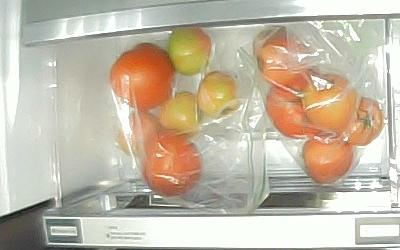tomato_vinyl: (110, 42, 172, 110), (142, 132, 203, 197), (266, 75, 323, 138), (254, 31, 320, 85), (302, 73, 358, 131), (302, 137, 354, 184), (340, 96, 385, 146), (303, 139, 351, 185), (169, 28, 212, 76), (119, 111, 160, 157), (198, 71, 237, 118), (161, 92, 202, 135)
